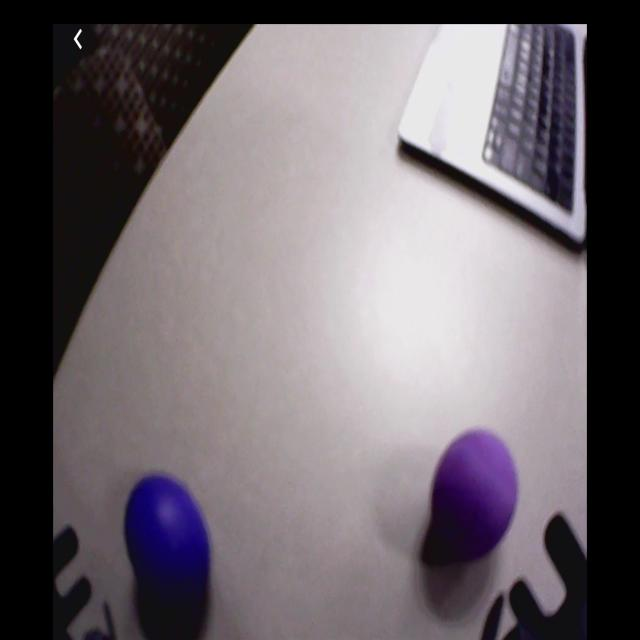ball: (124, 477, 215, 615), (430, 426, 519, 560)
